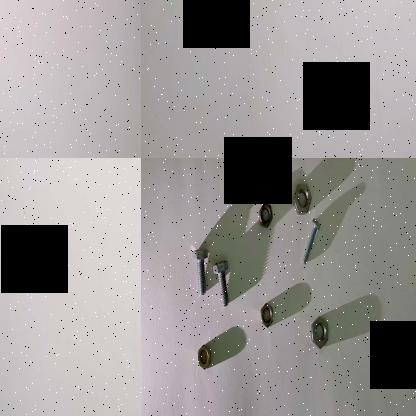Bolts: (212, 247, 232, 316), (189, 244, 211, 302), (300, 217, 320, 269)
NUTS: (306, 312, 330, 350), (290, 180, 312, 214), (252, 198, 274, 231), (256, 297, 276, 329), (194, 342, 212, 374)
